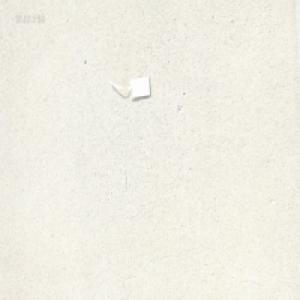LuggageTag: (107, 73, 152, 101)
